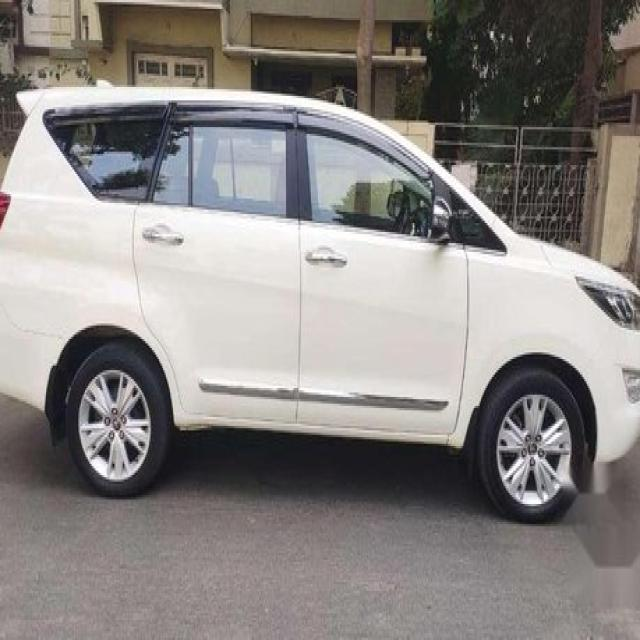light_vehicle: (1, 84, 639, 523)
